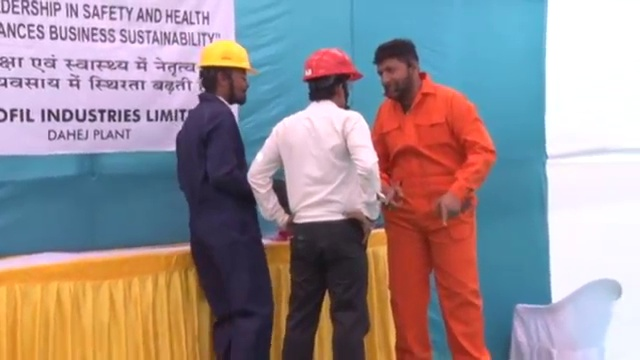helmet: (302, 45, 364, 86), (197, 38, 261, 75)
helmet_off: (374, 38, 420, 103)
helmet_on: (195, 37, 260, 106), (301, 43, 364, 110)
person: (247, 43, 379, 360), (370, 39, 496, 360), (175, 37, 277, 360)
